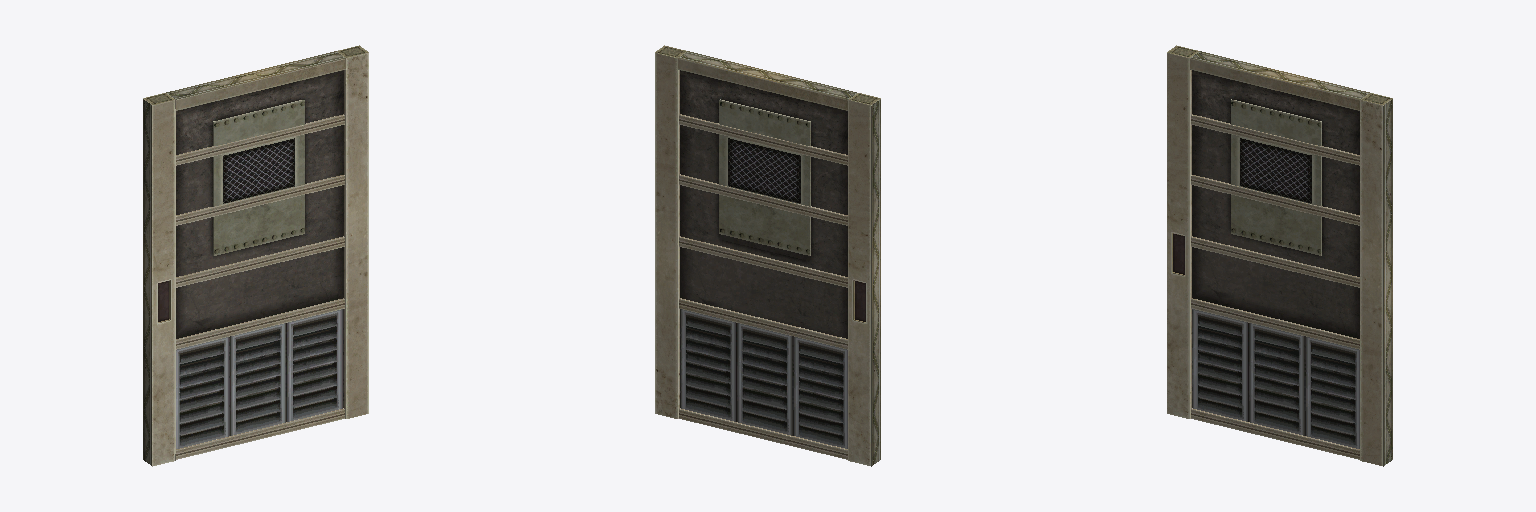
The picture shows the model from 3 angles: view 1: azimuth 30°, elevation 25°; view 2: azimuth 150°, elevation 25°; view 3: azimuth 330°, elevation 25°; orthographic projection.
Visible parts, largest first — view 1: dor_dorShape; view 2: dor_dorShape; view 3: dor_dorShape.
Boxes of the visible parts, x1=… form: dor_dorShape: x1=143, y1=45, x2=368, y2=466; dor_dorShape: x1=655, y1=45, x2=880, y2=466; dor_dorShape: x1=1167, y1=45, x2=1392, y2=466.
Bounding box in the file's own units: 1.51 × 2.4 × 0.12.
1 materials, 1 textured.